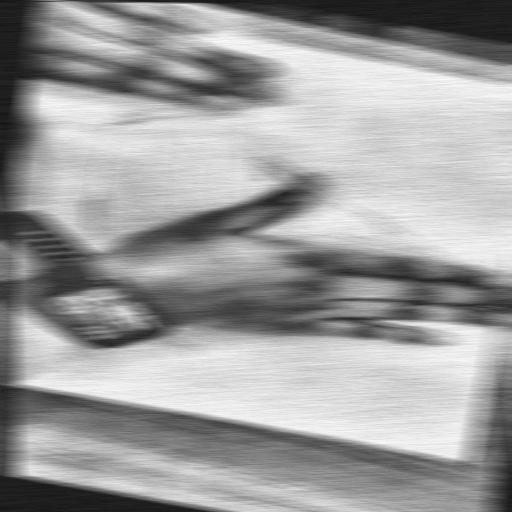boat: (54, 76, 512, 407)
top_right: (449, 456, 478, 469)
